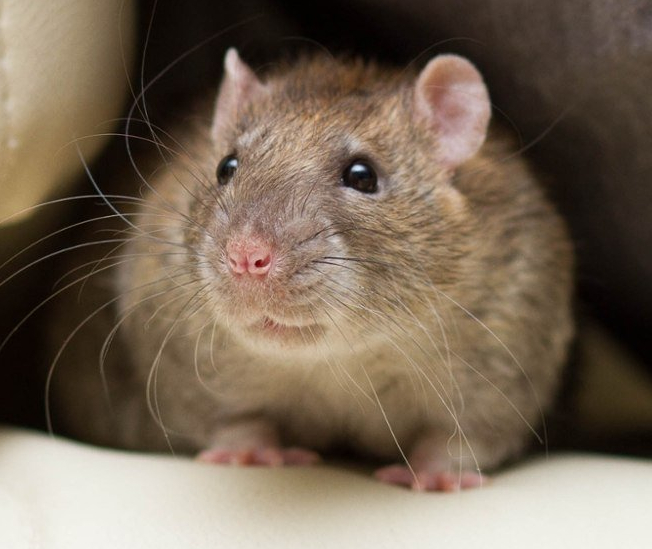rat: (50, 28, 594, 504)
